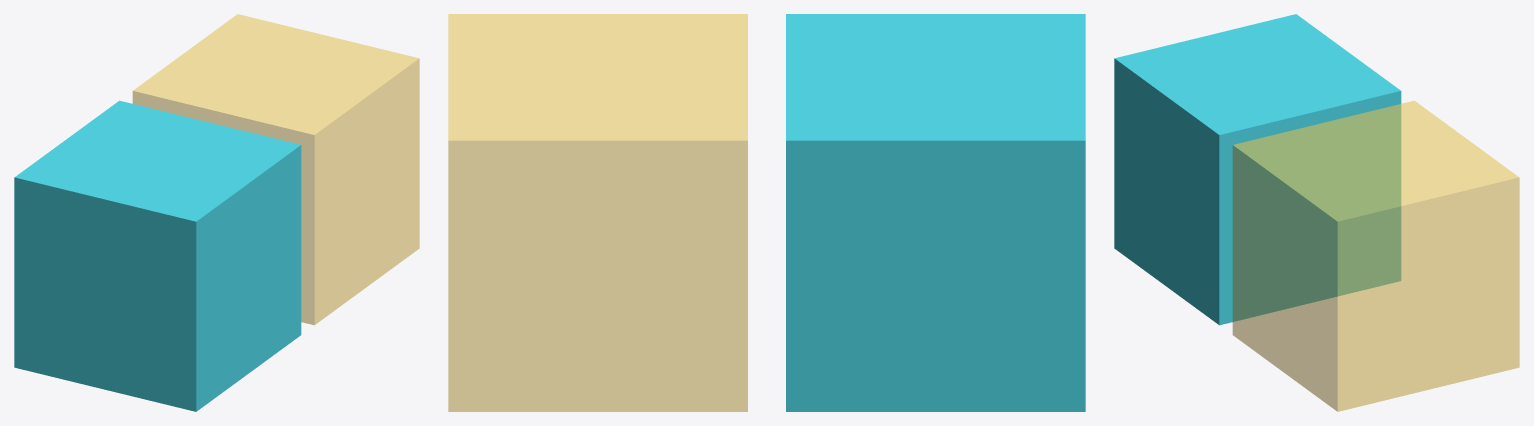
The model's file is mixed-alpha.glb.
3 views of the same model, side by side, from view 1: azimuth 30°, elevation 25°; view 2: azimuth 150°, elevation 25°; view 3: azimuth 270°, elevation 25° (orthographic). The views are drawn at different scales.
Parts seen in each view (by area): view 1: MixedAlphaStandardPair; view 2: MixedAlphaStandardPair; view 3: MixedAlphaStandardPair.
Part boxes in pixels (x1,y1,x2,y2): MixedAlphaStandardPair: (14,14,419,411); MixedAlphaStandardPair: (448,14,1085,411); MixedAlphaStandardPair: (1114,14,1519,411).
Size of the model in its own units: 2.58 by 1.1 by 2.12.
